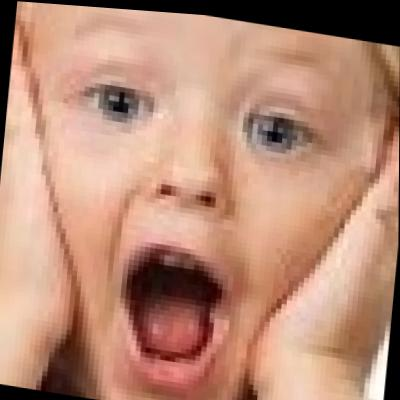surprise: (0, 0, 373, 400)
